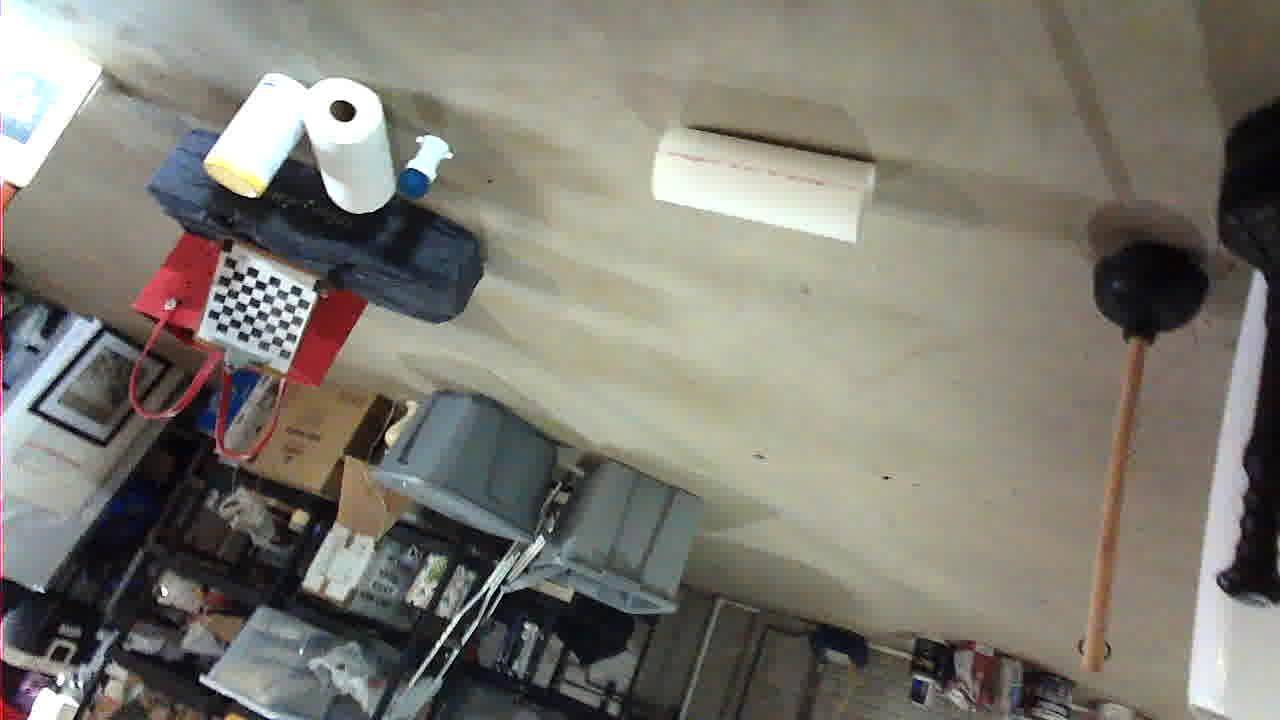coral: (407, 479, 626, 596)
